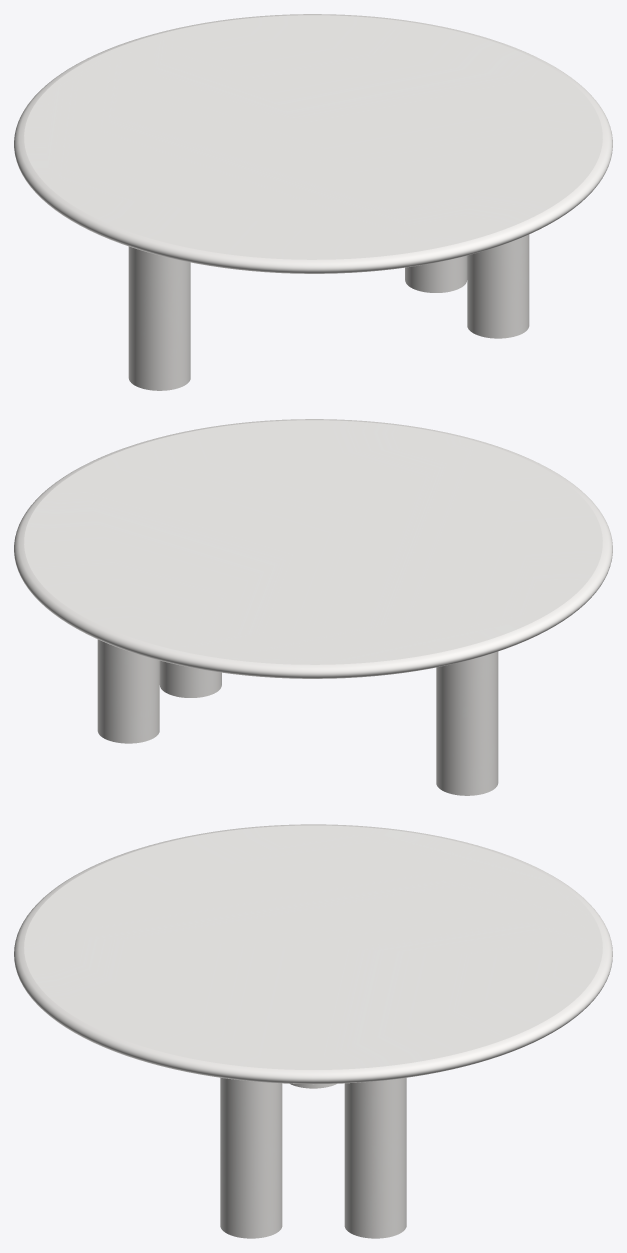
The model's file is purewhite_round_round_cylinder.glb.
3 views of the same model, one above another, from view 1: azimuth 30°, elevation 25°; view 2: azimuth 150°, elevation 25°; view 3: azimuth 270°, elevation 25° (orthographic).
Visible parts, largest first — view 1: round_round, cylinder; view 2: round_round, cylinder; view 3: round_round, cylinder.
Boxes of the visible parts, x1,y1,x2,y2 form: round_round: (14,14,612,273); cylinder: (128,234,529,390); round_round: (14,419,612,678); cylinder: (97,639,498,795); round_round: (14,824,612,1084); cylinder: (220,1077,406,1238).
Bounding box in the file's own units: 6.75 × 2.52 × 6.75.
1 material, 1 textured.
